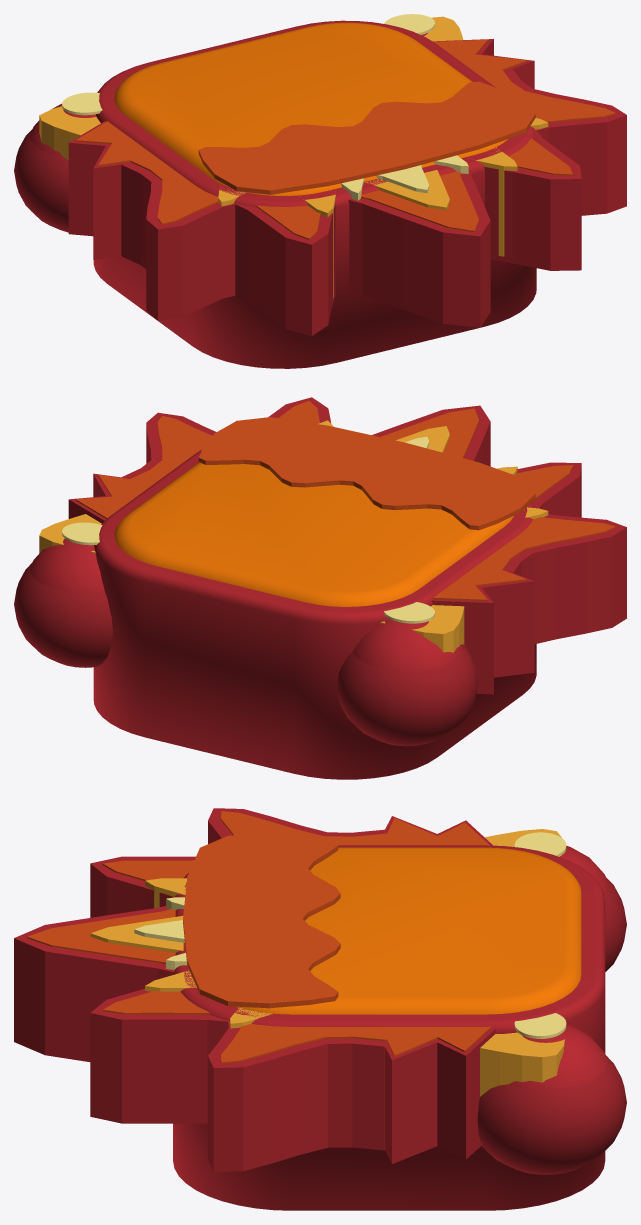
File: body_chama.fbx
3 views of the same model, one above another, from view 1: azimuth 30°, elevation 25°; view 2: azimuth 150°, elevation 25°; view 3: azimuth 270°, elevation 25° (orthographic). The views are drawn at different scales.
Visible parts, largest first — view 1: body_chama_corpo, body_chama_mao_esq, body_chama_corpo_neon, body_chama_mao_esq_neon, body_chama_mao_neon, body_chama_mao; view 2: body_chama_corpo, body_chama_mao_esq, body_chama_mao, body_chama_mao_esq_neon, body_chama_mao_neon; view 3: body_chama_corpo, body_chama_mao, body_chama_mao_esq, body_chama_corpo_neon, body_chama_mao_neon, body_chama_mao_esq_neon.
Part boxes in pixels (bbox=[...]): body_chama_corpo: bbox=[68, 20, 626, 368]; body_chama_mao_esq: bbox=[14, 103, 100, 232]; body_chama_corpo_neon: bbox=[341, 155, 468, 200]; body_chama_mao_esq_neon: bbox=[62, 92, 102, 115]; body_chama_mao_neon: bbox=[384, 14, 434, 34]; body_chama_mao: bbox=[421, 16, 463, 41]; body_chama_corpo: bbox=[68, 397, 626, 779]; body_chama_mao_esq: bbox=[336, 605, 478, 746]; body_chama_mao: bbox=[14, 514, 112, 667]; body_chama_mao_esq_neon: bbox=[384, 602, 434, 623]; body_chama_mao_neon: bbox=[62, 522, 102, 545]; body_chama_corpo: bbox=[14, 808, 605, 1210]; body_chama_mao: bbox=[477, 1024, 626, 1174]; body_chama_mao_esq: bbox=[485, 829, 626, 971]; body_chama_corpo_neon: bbox=[134, 897, 187, 969]; body_chama_mao_neon: bbox=[514, 1013, 566, 1038]; body_chama_mao_esq_neon: bbox=[514, 832, 566, 856].
Size of the model in its own units: 5.69 by 2.05 by 5.67.
1 material, 1 textured.
